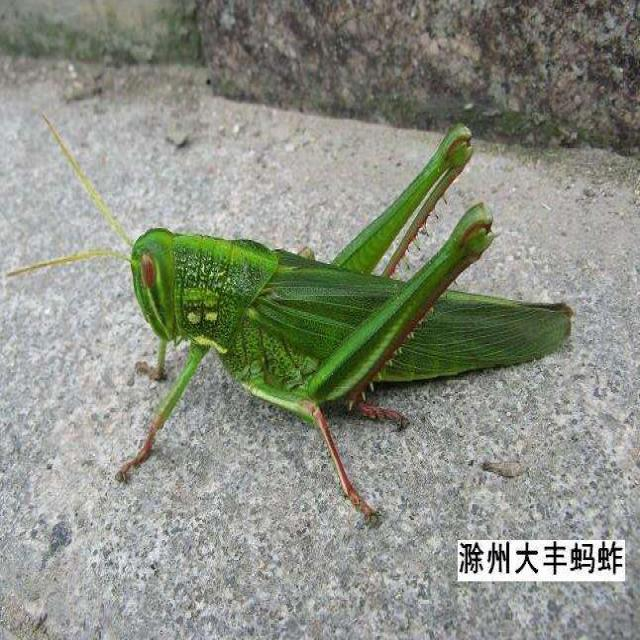ZhaMeng: (62, 111, 606, 447)
